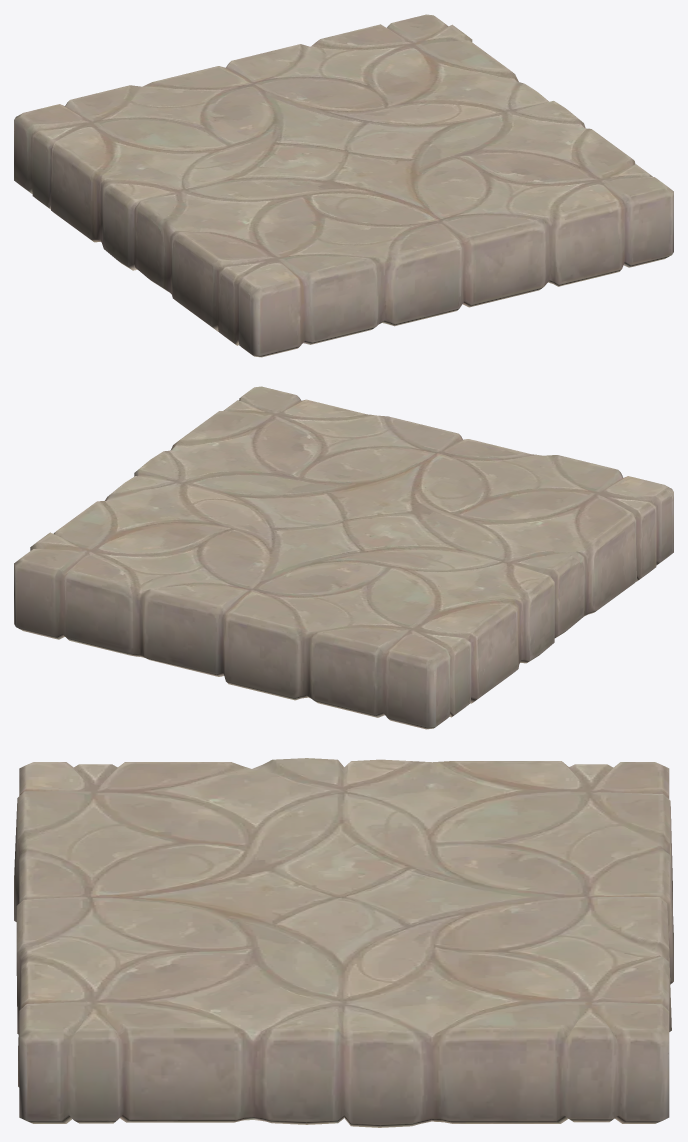
3 renders of one model, top to bottom at view 1: azimuth 30°, elevation 25°; view 2: azimuth 150°, elevation 25°; view 3: azimuth 270°, elevation 25°, orthographic. The views are drawn at different scales.
Size of the model in its own units: 5.09 by 0.8677 by 5.11.
1 material, 1 textured.
